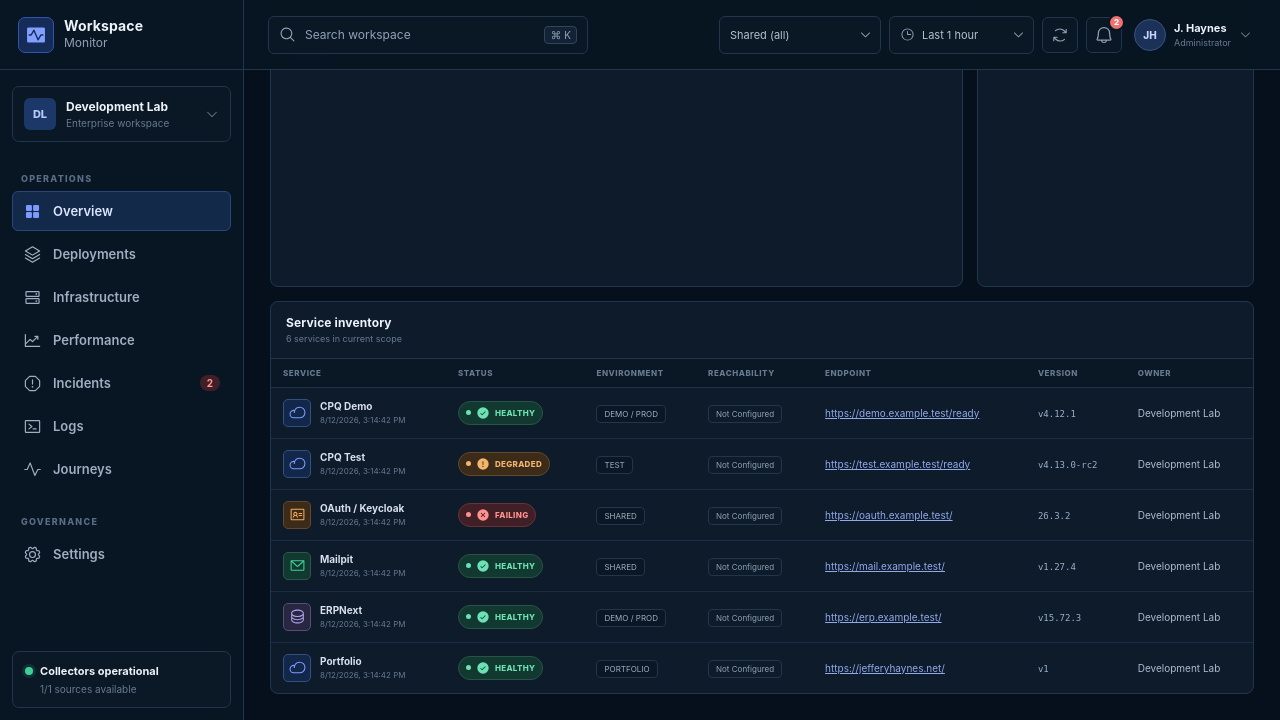
Test: enterprise application shell › opens a catalog-driven service detail view
(page scrolled)
Click the link "CPQ Demo" at (346, 406), box [320, 400, 372, 412]
(page scrolled)
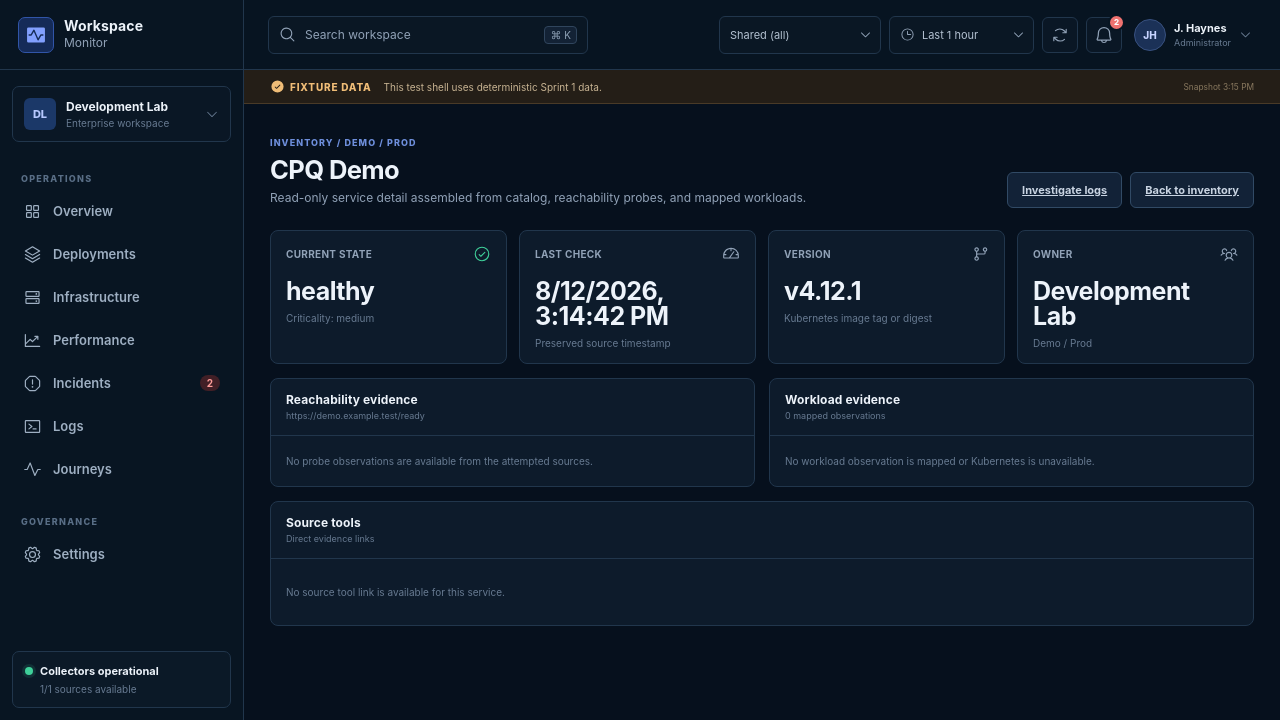
Expected: the heading "CPQ Demo" is shown, [270, 154, 399, 185]
Expected: the heading "Reachability evidence" is shown, [286, 392, 425, 407]
Expected: the heading "Workload evidence" is shown, [785, 392, 900, 407]
